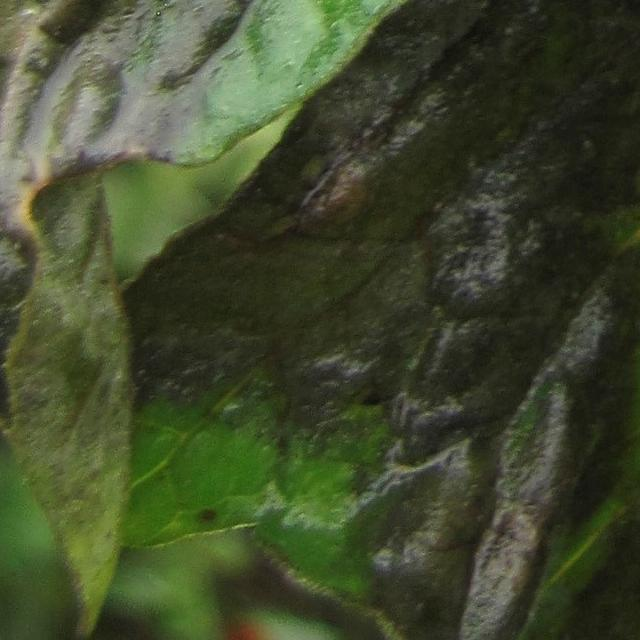Tomato leaf late blight: (0, 0, 640, 557), (165, 0, 640, 640)
